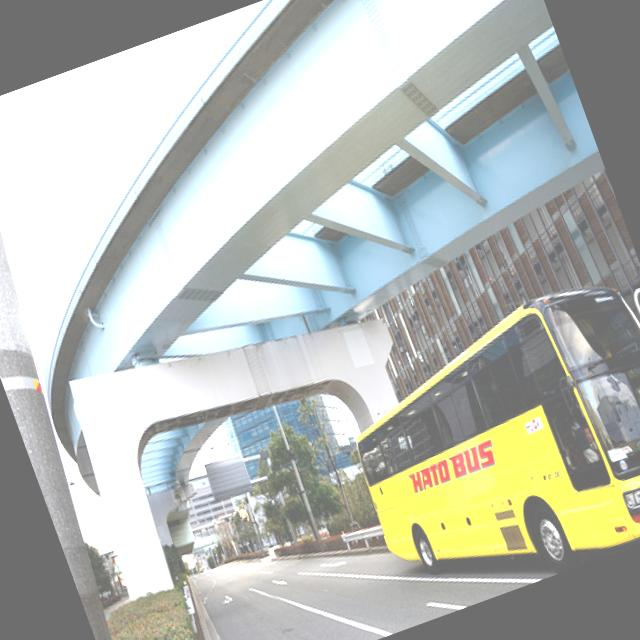Vehicle: (321, 259, 640, 623)
